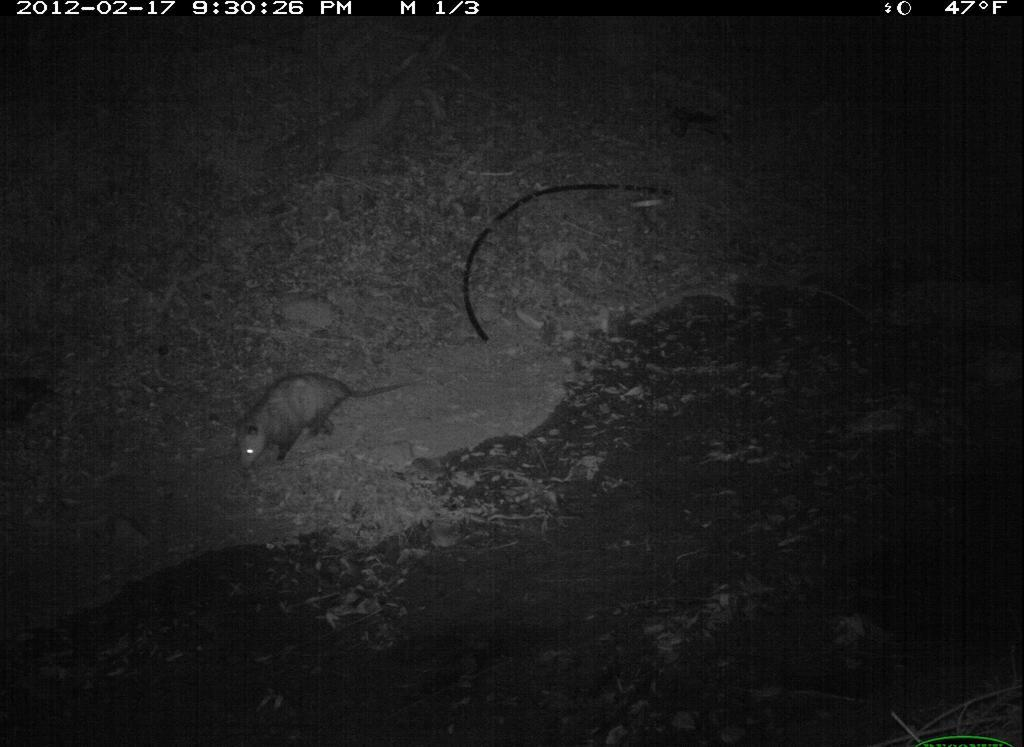opossum: (225, 359, 456, 473)
